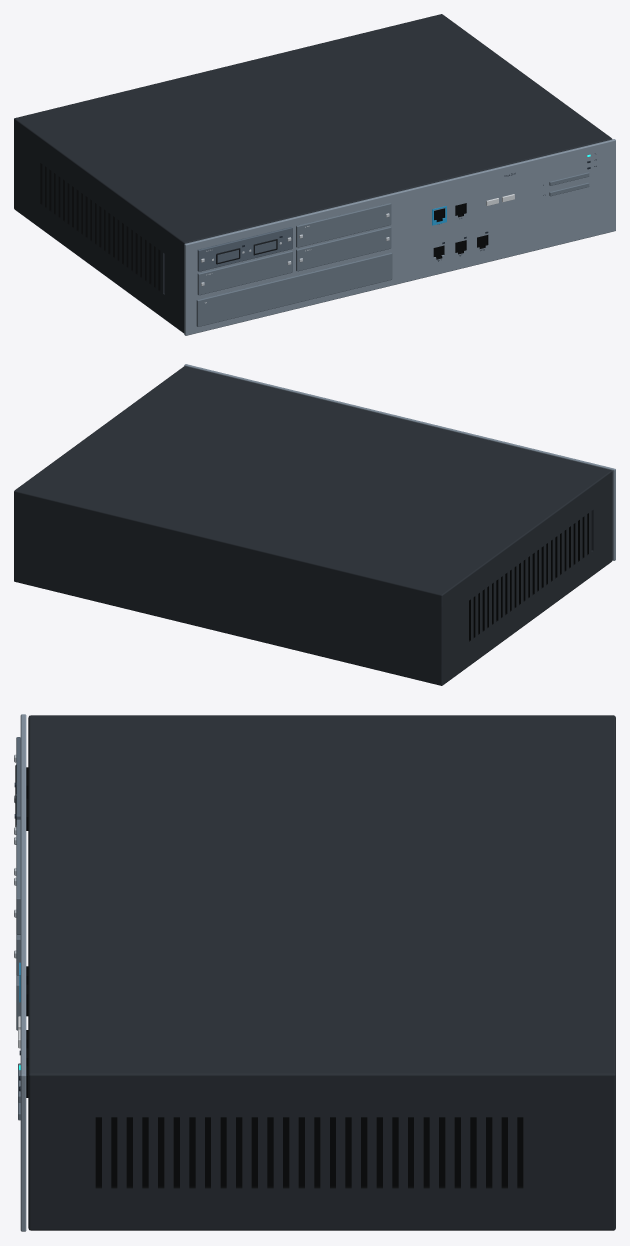
File: router-2911.glb
The picture shows the model from 3 angles, top to bottom: view 1: azimuth 30°, elevation 25°; view 2: azimuth 150°, elevation 25°; view 3: azimuth 270°, elevation 25°; orthographic projection. The views are drawn at different scales.
Parts seen in each view (by area): view 1: Cisco-2911; view 2: Cisco-2911; view 3: Cisco-2911.
Part boxes in pixels (bbox=[...]): Cisco-2911: bbox=[14, 14, 615, 335]; Cisco-2911: bbox=[14, 364, 615, 685]; Cisco-2911: bbox=[14, 714, 615, 1231].
Size of the model in its own units: 0.438 by 0.0889 by 0.3084.
